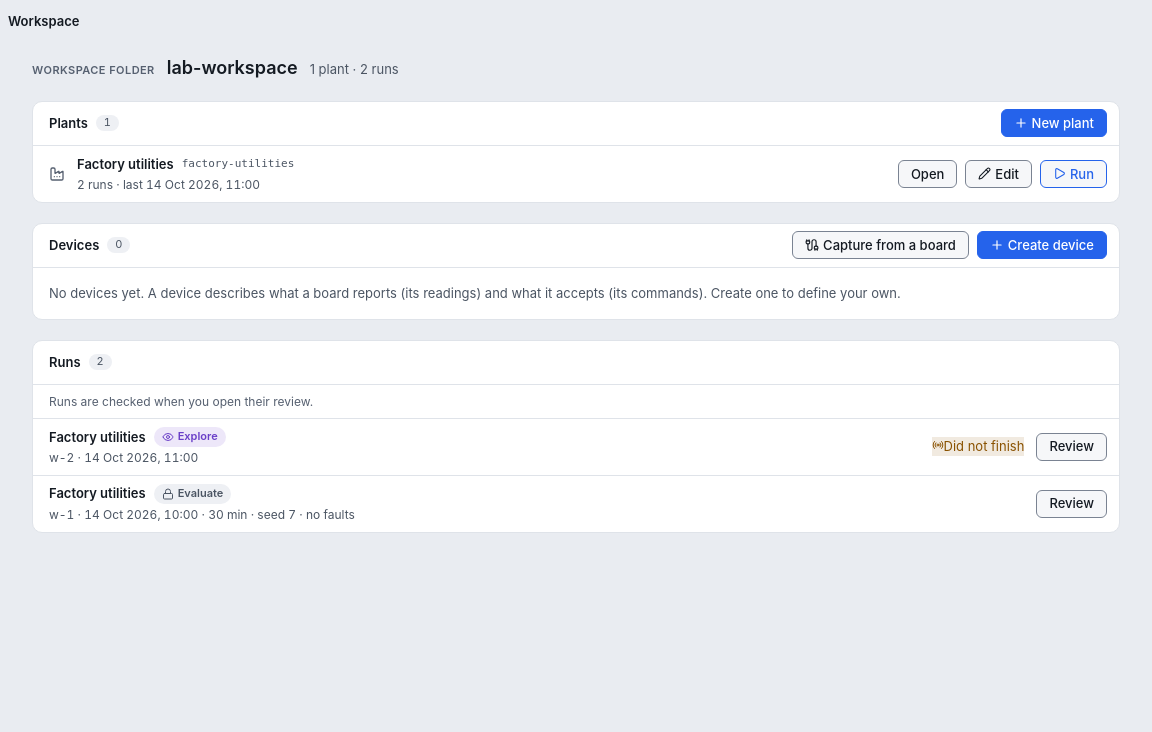
Test: new plant id › shows the binary's id rule under the Id field on leaving it, and clears the message when the id changes
Step 1. Click the button "New plant" → (1054, 123), box x1=1001 y1=109 x2=1107 y2=137
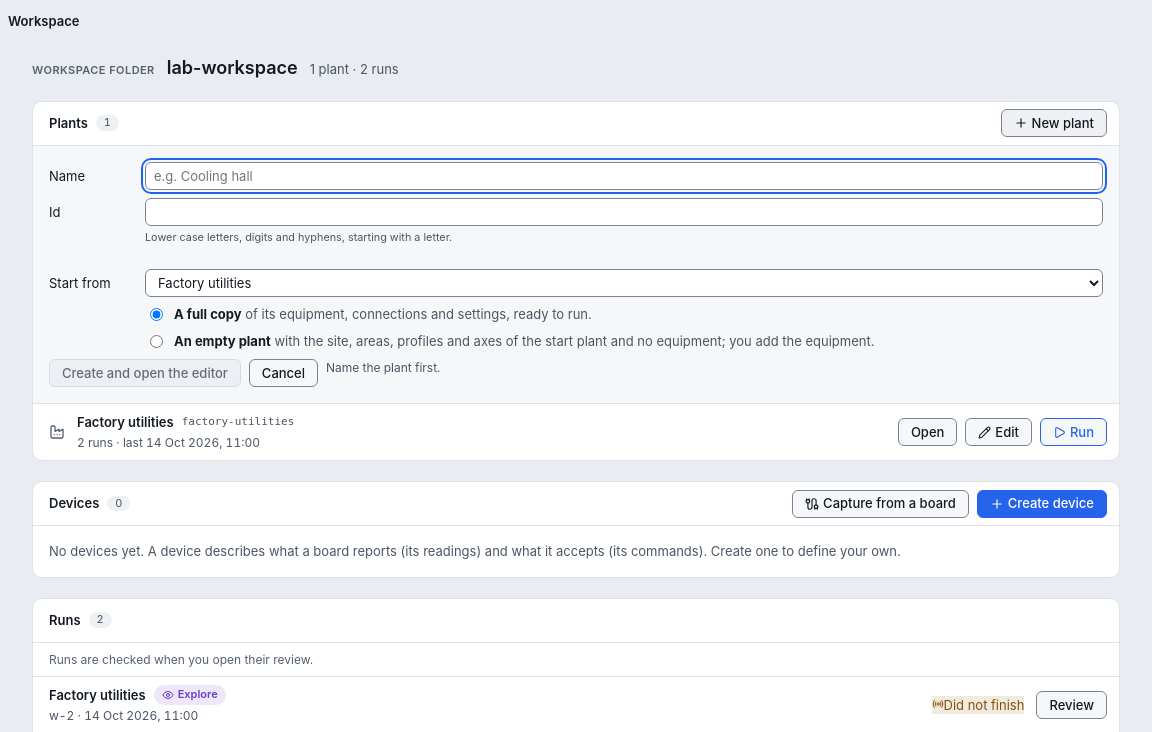
Step 2. Type "Bad plant" into the field labelled "Name" → (624, 176), box x1=145 y1=162 x2=1103 y2=190
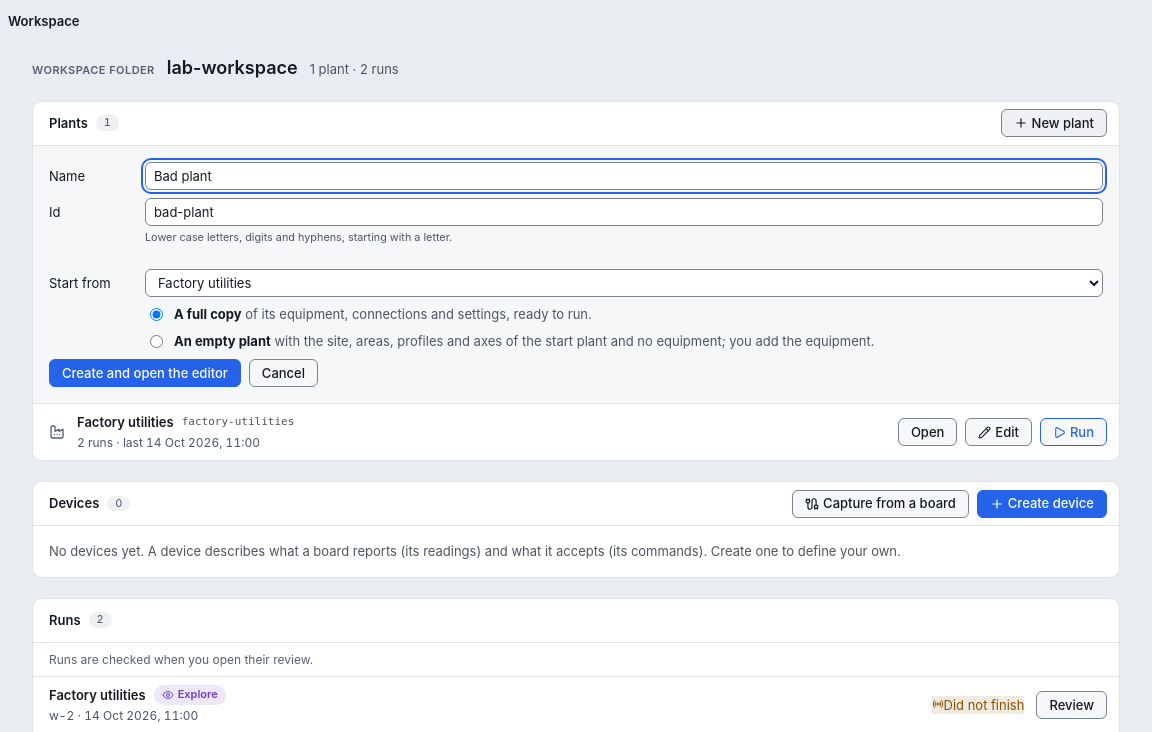
Step 3. Replace the text in the field labelled "Id" with "Bad Id!" → (624, 212), box x1=145 y1=198 x2=1103 y2=226
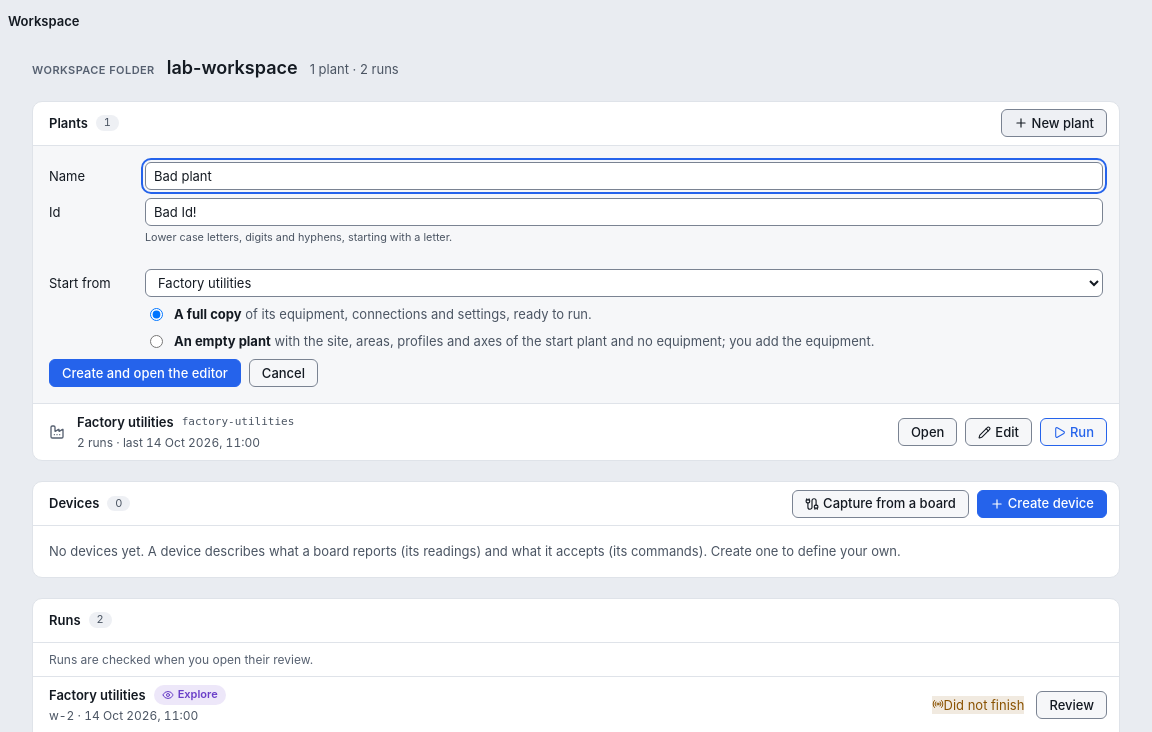
Expected: the text "is not a plant id" is not shown
Step 4. Leave the field labelled "Id", box x1=145 y1=198 x2=1103 y2=226
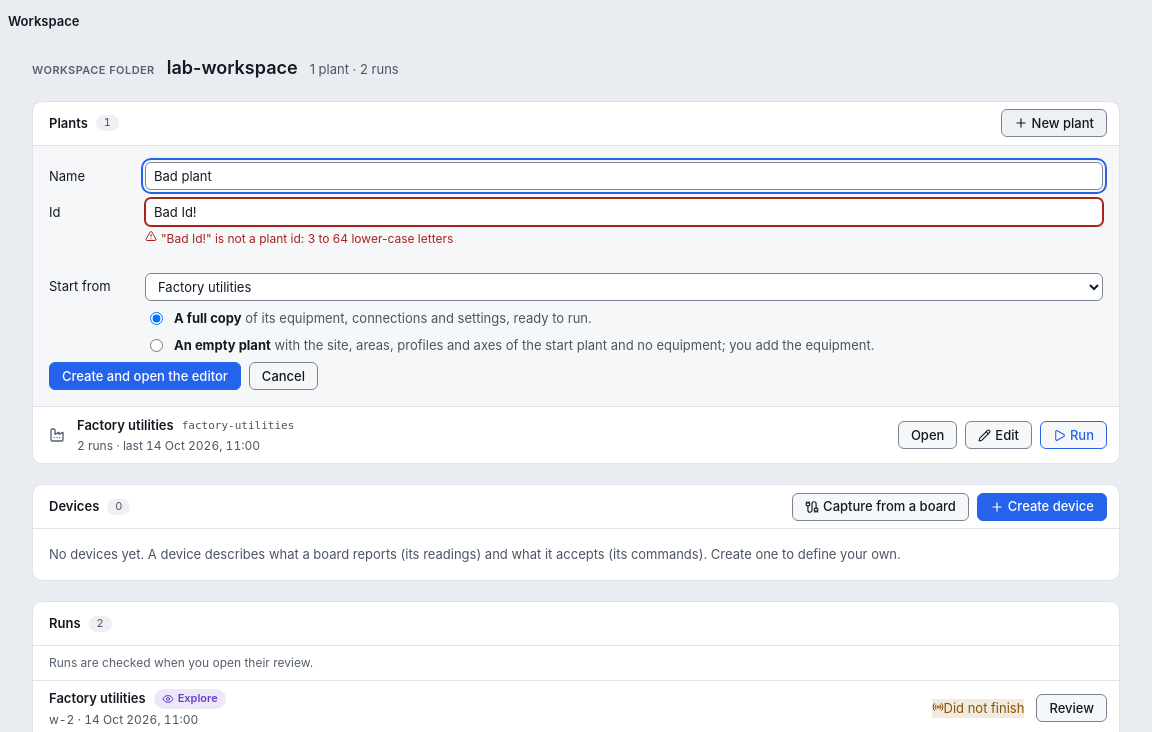
Now the text "\"Bad Id!\" is not a plant id: 3 to 64 lower-case letters" is shown once, box x1=145 y1=230 x2=453 y2=246
Now the text "starting with a letter" is gone
Step 5. Replace the text in the field labelled "Id" with "bad-plant" → (624, 212), box x1=145 y1=198 x2=1103 y2=226
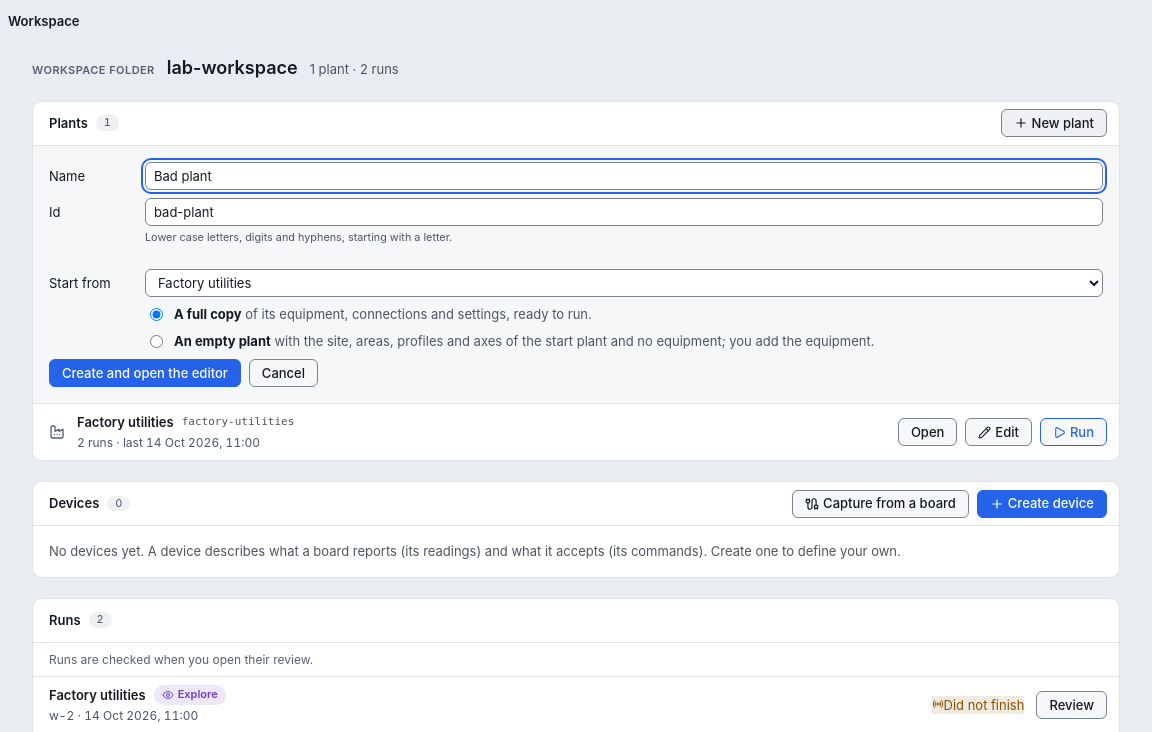
Now the text "is not a plant id" is gone
Now the text "starting with a letter" is shown, box x1=145 y1=231 x2=452 y2=244
